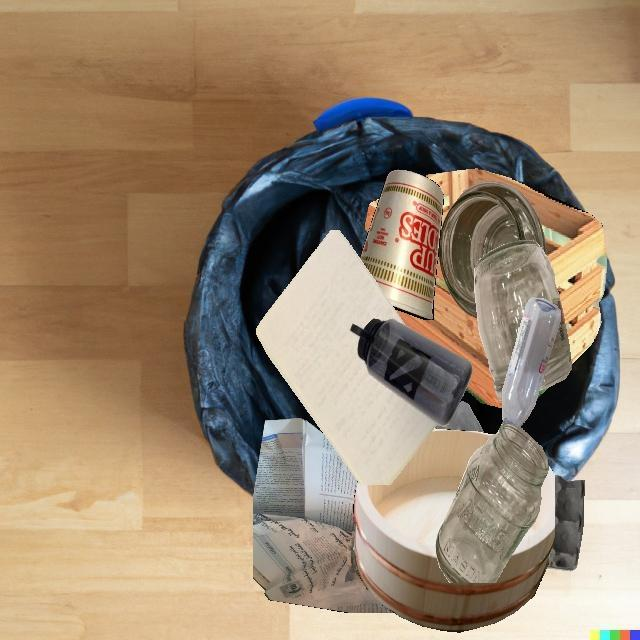cardboard: (547, 475, 584, 571)
combustible waste: (353, 429, 555, 632), (425, 168, 607, 364), (375, 181, 537, 401)
glass: (435, 422, 549, 583), (474, 240, 572, 401), (439, 181, 546, 318)
paper: (256, 230, 437, 485), (253, 418, 395, 613)
plastic: (349, 318, 472, 426), (502, 297, 561, 427), (433, 401, 484, 433)
trash: (360, 169, 444, 320)
